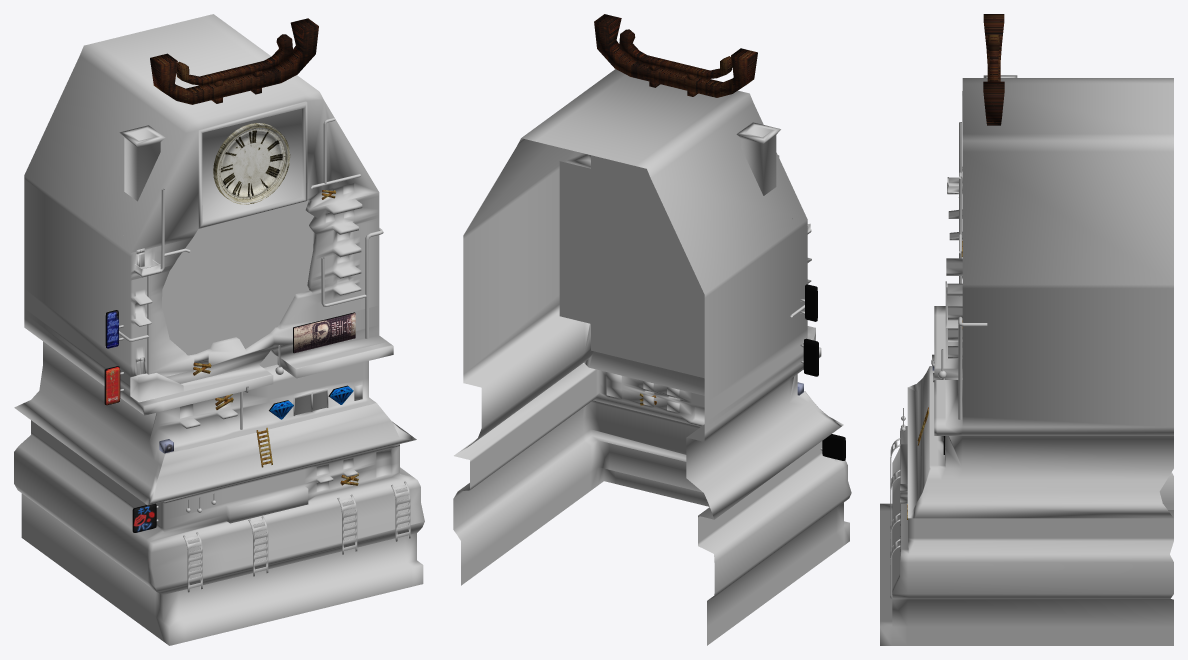
File: Demo2.fbx
3 renders of one model, left to right at view 1: azimuth 30°, elevation 25°; view 2: azimuth 150°, elevation 25°; view 3: azimuth 270°, elevation 25°, orthographic. The views are drawn at different scales.
Visible parts, largest first — view 1: polySurface56, polySurface17, Mesh_polySurface31_000, polySurface55, polySurface10, polySurface51, polySurface32, polySurface33, polySurface31, polySurface39, polySurface30, polySurface24 (+1 smaller); view 2: polySurface56, polySurface17, Mesh_polySurface31_000, polySurface10, polySurface23; view 3: polySurface56, Mesh_polySurface31_000, polySurface46.
Boxes of the visible parts, box(x1,y1,x2,y2) form: polySurface56: box(14, 14, 424, 645); polySurface17: box(123, 162, 313, 367); Mesh_polySurface31_000: box(150, 18, 318, 104); polySurface55: box(213, 123, 290, 204); polySurface10: box(119, 125, 165, 201); polySurface51: box(293, 312, 355, 353); polySurface32: box(147, 188, 164, 374); polySurface33: box(391, 481, 410, 541); polySurface31: box(183, 532, 202, 592); polySurface39: box(248, 516, 268, 576); polySurface30: box(337, 494, 357, 554); polySurface24: box(132, 503, 156, 532); polySurface56: box(453, 69, 851, 645); polySurface17: box(559, 155, 792, 378); Mesh_polySurface31_000: box(594, 14, 757, 97); polySurface10: box(736, 122, 780, 195); polySurface23: box(803, 338, 818, 376); polySurface56: box(880, 78, 1173, 645); Mesh_polySurface31_000: box(983, 14, 1004, 125); polySurface46: box(958, 316, 987, 419).
Bounding box in the file's own units: 8.99 × 16.49 × 8.29.
